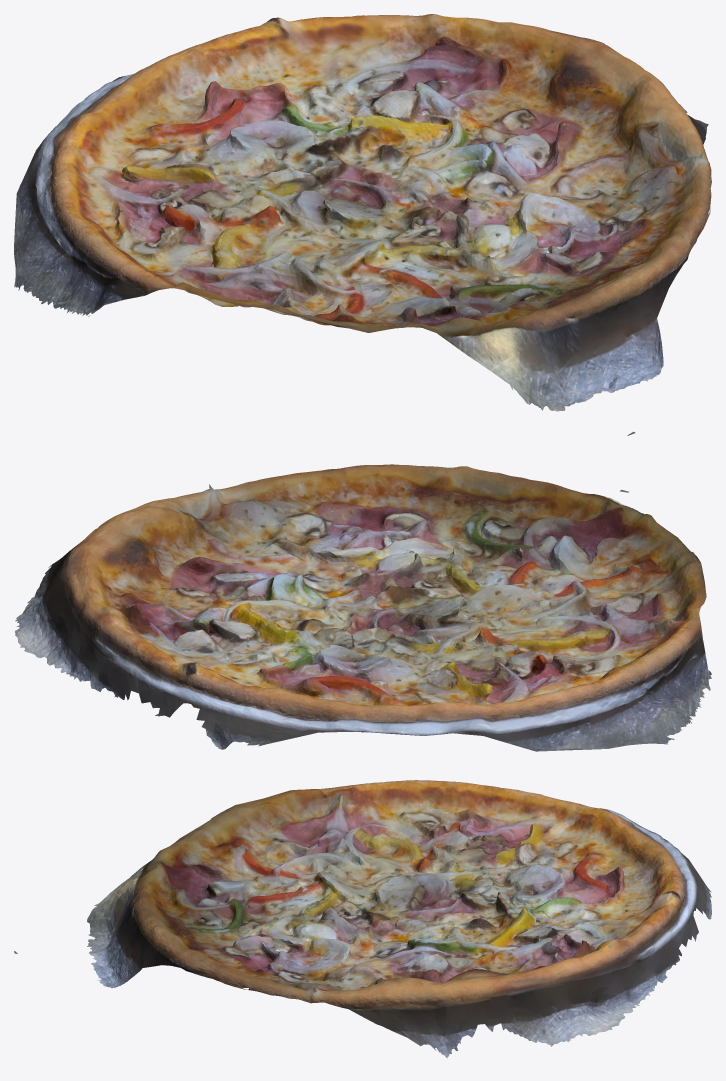
The model's file is Miros Pizza.glb.
The picture shows the model from 3 angles, top to bottom: view 1: azimuth 30°, elevation 25°; view 2: azimuth 150°, elevation 25°; view 3: azimuth 270°, elevation 25°; orthographic projection. The views are drawn at different scales.
Parts seen in each view (by area): view 1: Miros Pizza; view 2: Miros Pizza; view 3: Miros Pizza.
Boxes of the visible parts, box(x1,y1,x2,y2) form: Miros Pizza: box(14, 14, 711, 435); Miros Pizza: box(15, 464, 711, 751); Miros Pizza: box(14, 780, 711, 1058).
Size of the model in its own units: 2.11 by 0.3101 by 2.3.
Materials: 1 (1 with a texture image).
